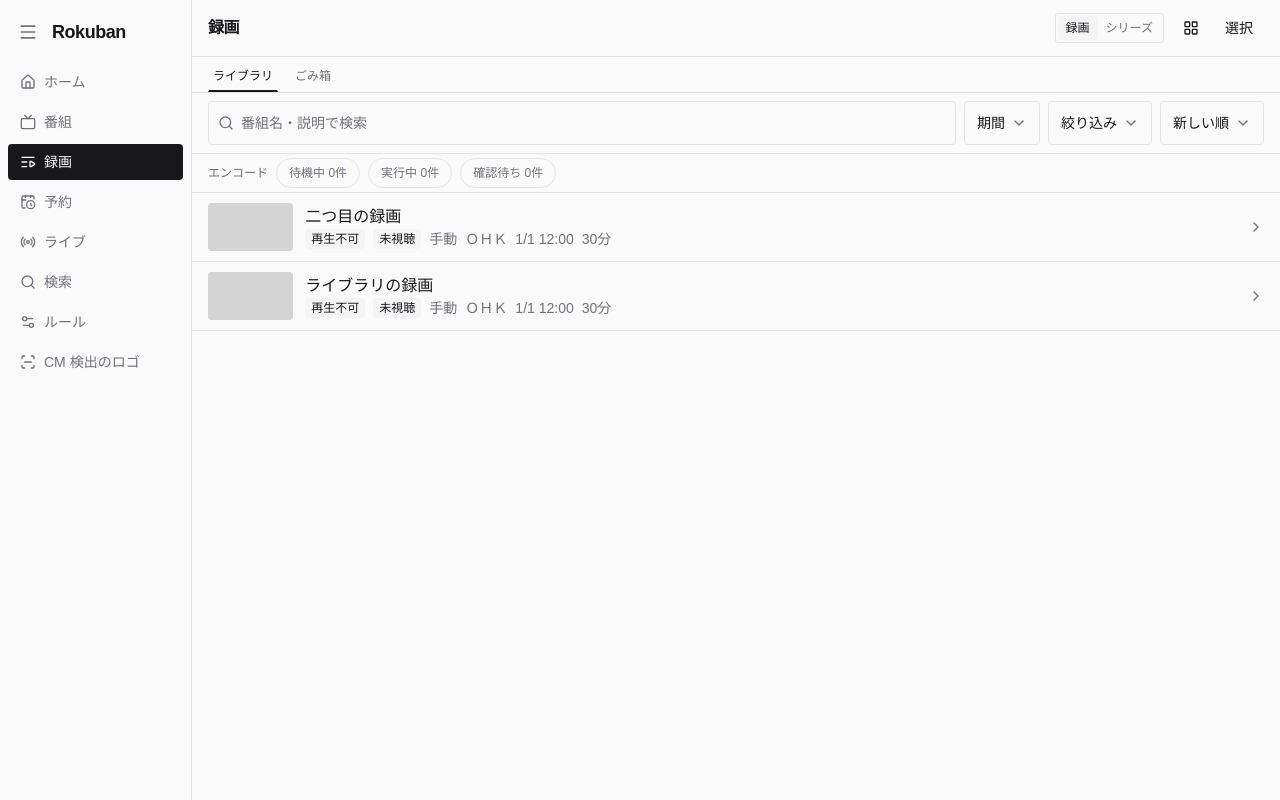
Test case: RecordingsPage 複数選択と一括操作 › 編集モード中だけ checkbox を出し、行と checkbox で 1 回ずつ選択を切り替える
Expected: the text "ライブラリの録画" is shown, top-left (305, 277), bottom-right (433, 294)
Click the button "選択".
click(1239, 28)  # box top-left (1214, 12), bottom-right (1264, 44)
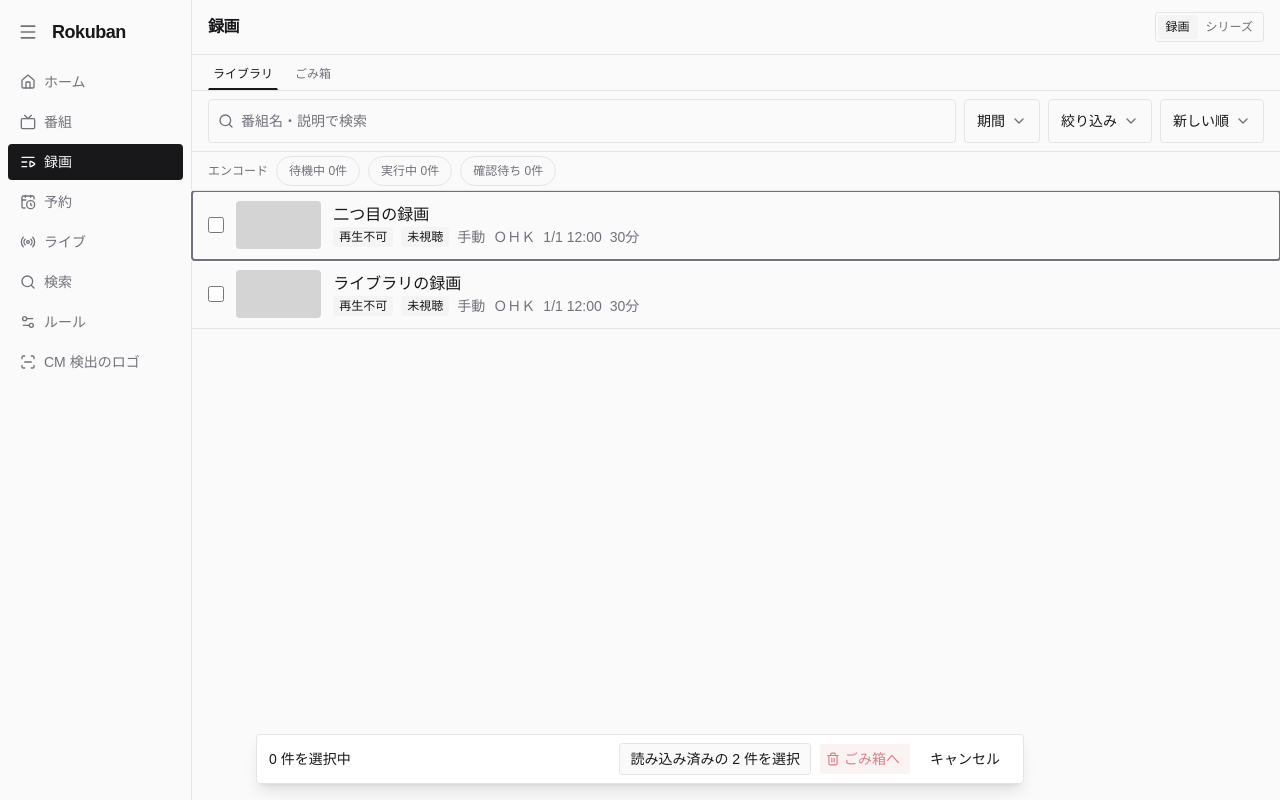
Expected: the option named "ライブラリの録画を選択" is not selected
Click the option named "ライブラリの録画を選択".
click(279, 294)  # box top-left (192, 260), bottom-right (1279, 329)
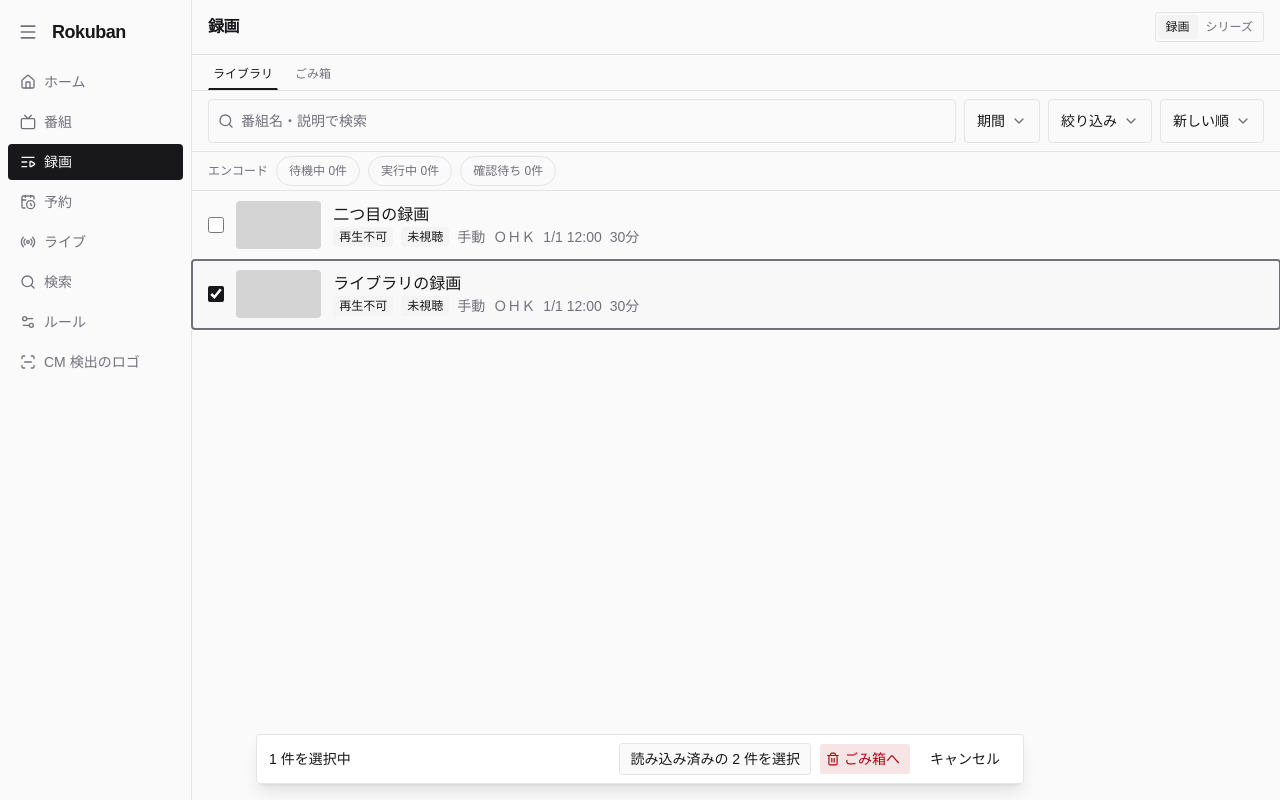
Expected: the checkbox named "ライブラリの録画を選択" is checked
Expected: the text "1 件を選択中" is shown, top-left (269, 749), bottom-right (351, 769)
Click the checkbox named "ライブラリの録画を選択".
click(216, 294)  # box top-left (208, 286), bottom-right (224, 302)
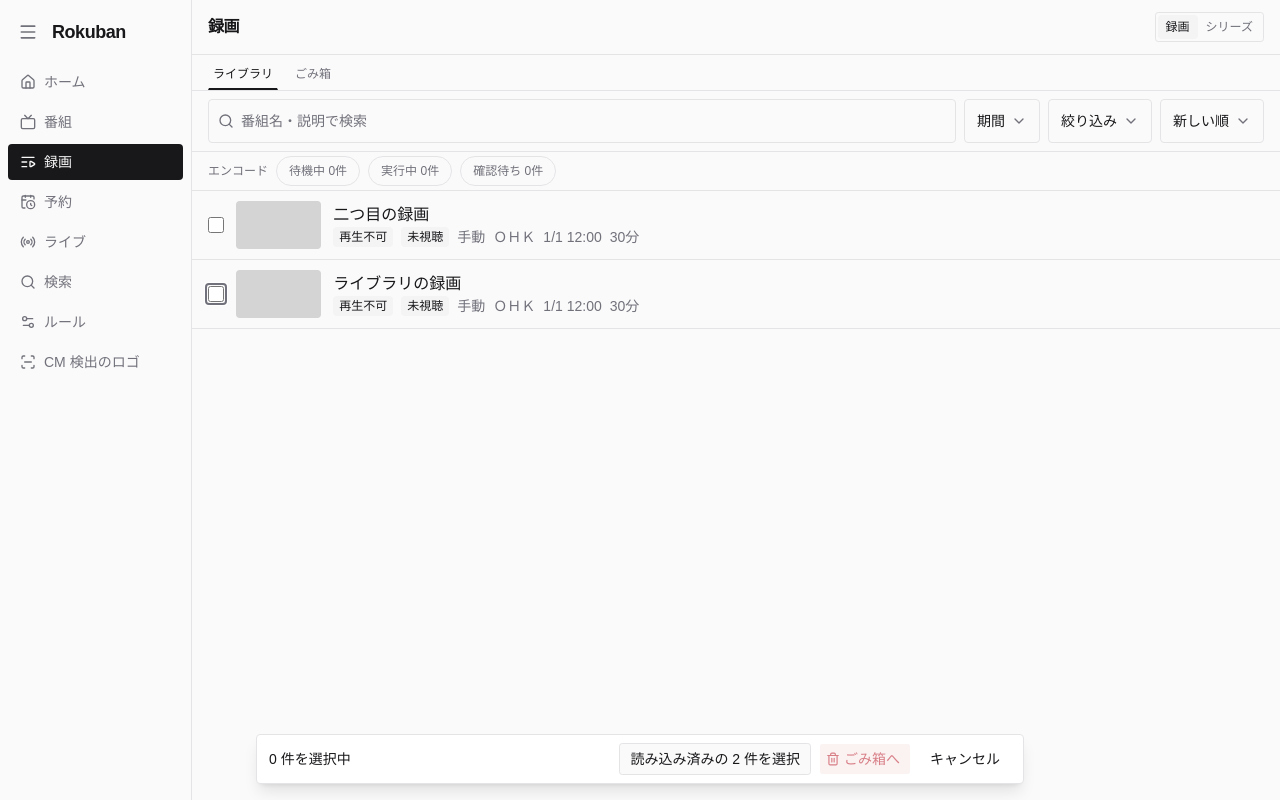
Expected: the checkbox named "ライブラリの録画を選択" is not checked, top-left (208, 286), bottom-right (224, 302)
Expected: the text "0 件を選択中" is shown, top-left (269, 749), bottom-right (351, 769)
Click the button "キャンセル".
click(965, 759)  # box top-left (919, 743), bottom-right (1011, 775)
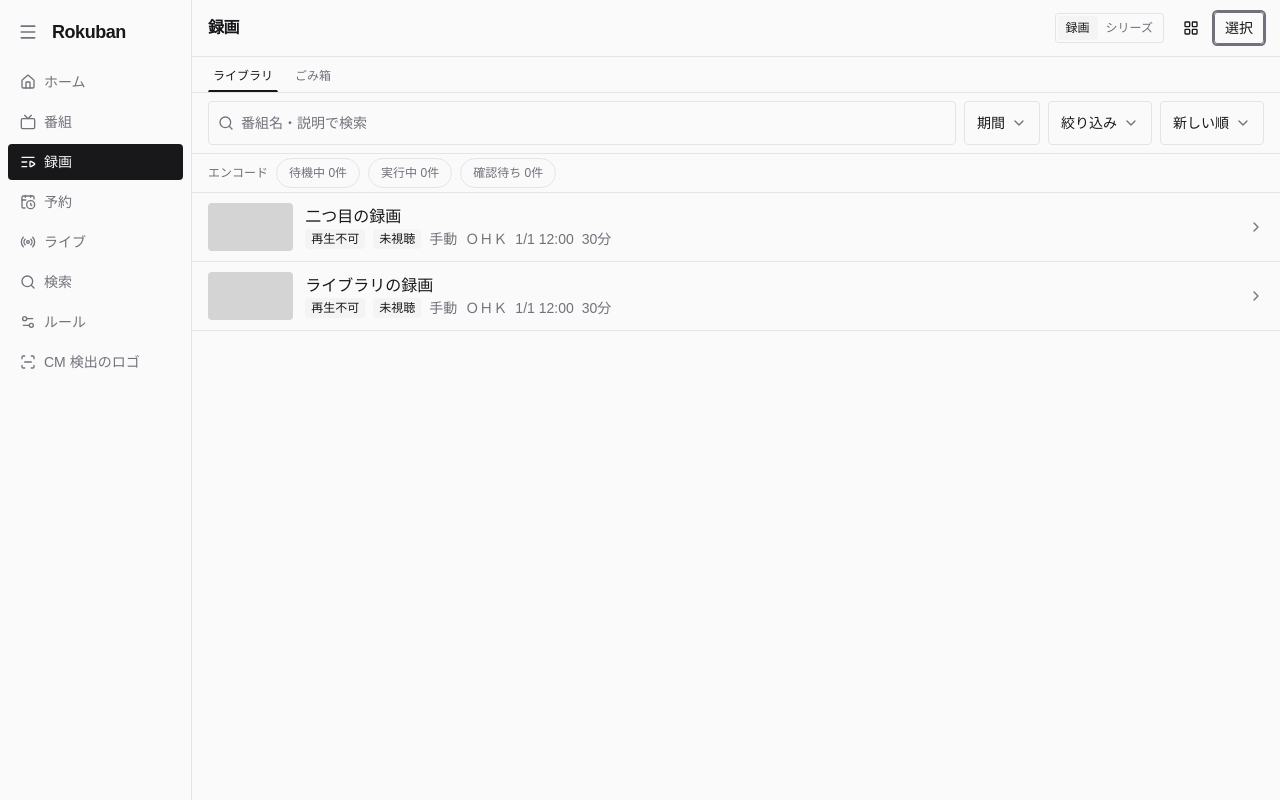
Expected: the checkbox is gone
Expected: the link named "ライブラリの録画" is shown, top-left (192, 262), bottom-right (1279, 330)
